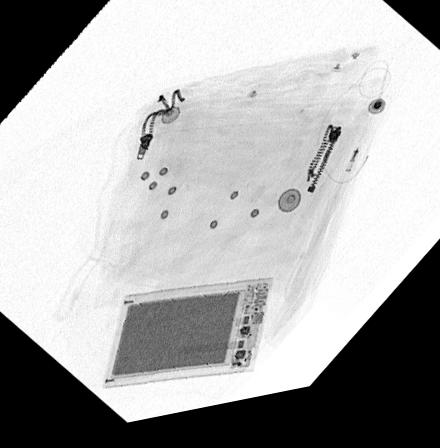Powerbank: (103, 287, 273, 395)
